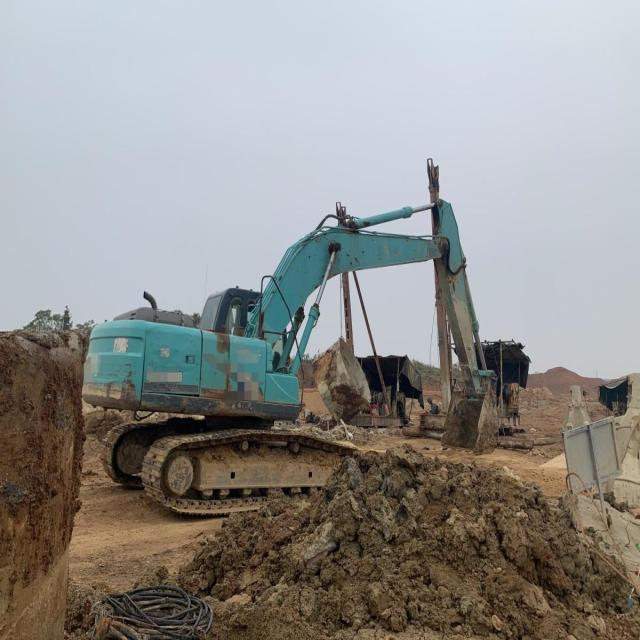excavator: (70, 193, 512, 531)
